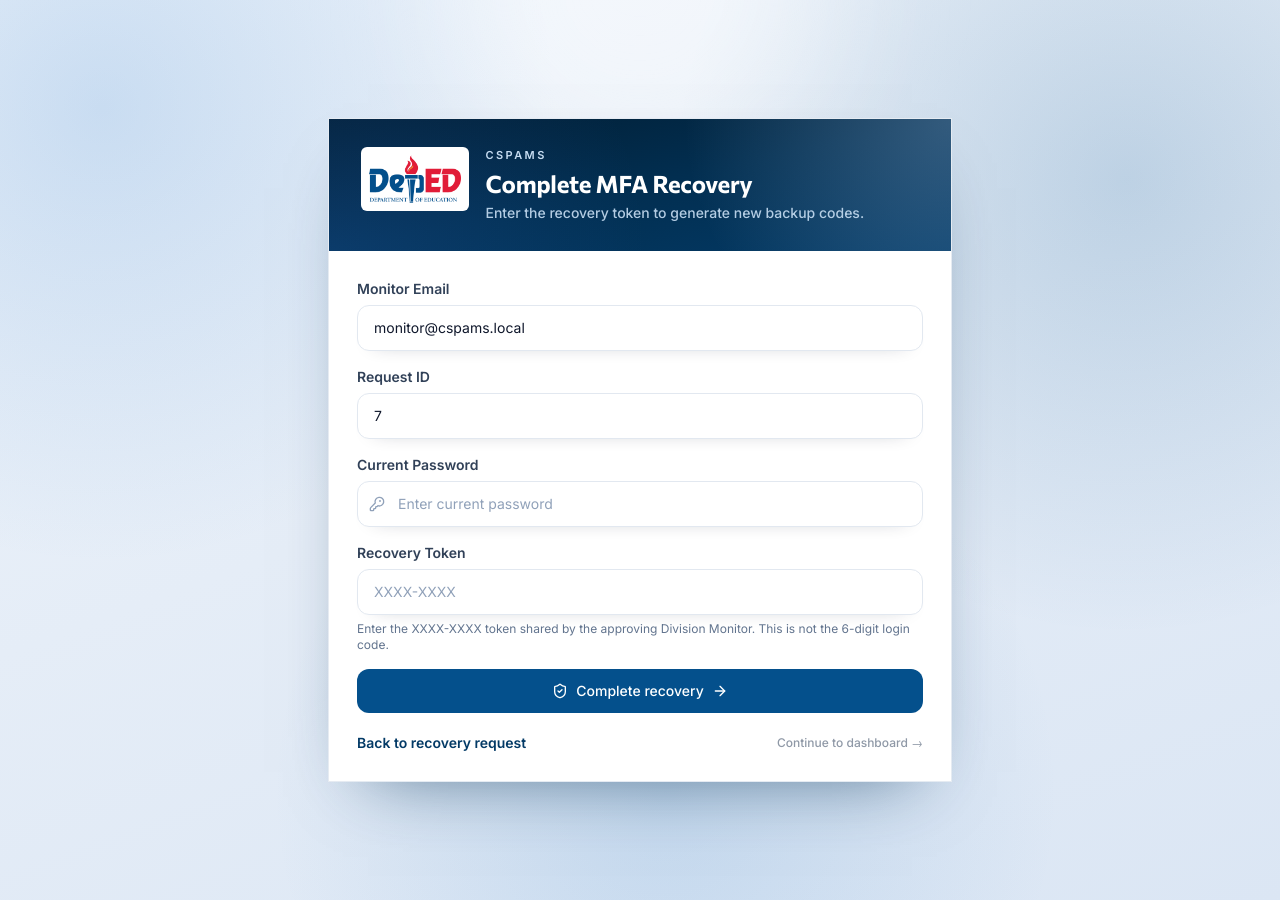
Test case: MfaResetComplete › rejects a six-digit login MFA code as a recovery token
Type "Demo@123456" into the password field labelled "Current Password" at (640, 504), box [357, 480, 923, 526]
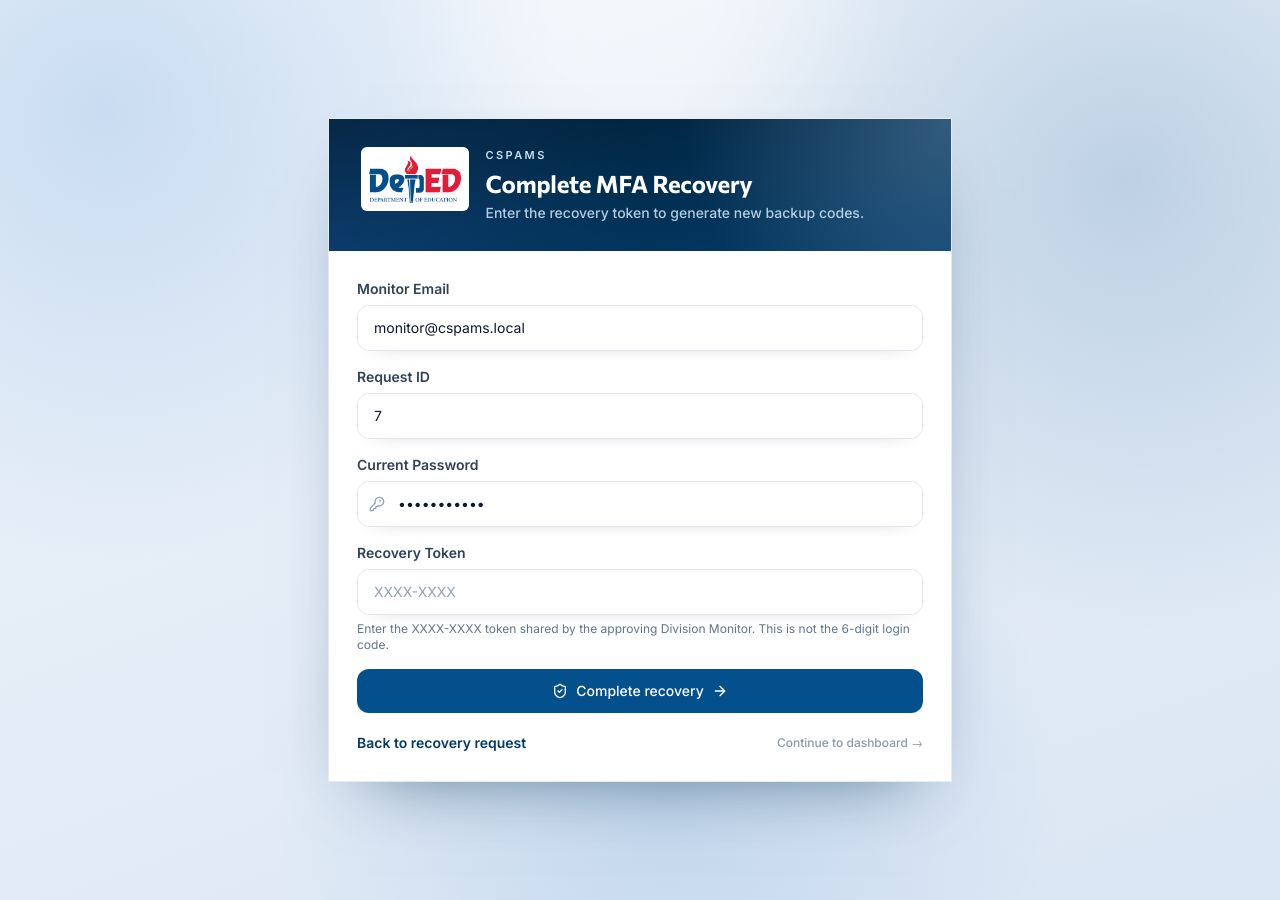
Type "123456" into the field labelled "Recovery Token" at (640, 592), box [357, 568, 923, 614]
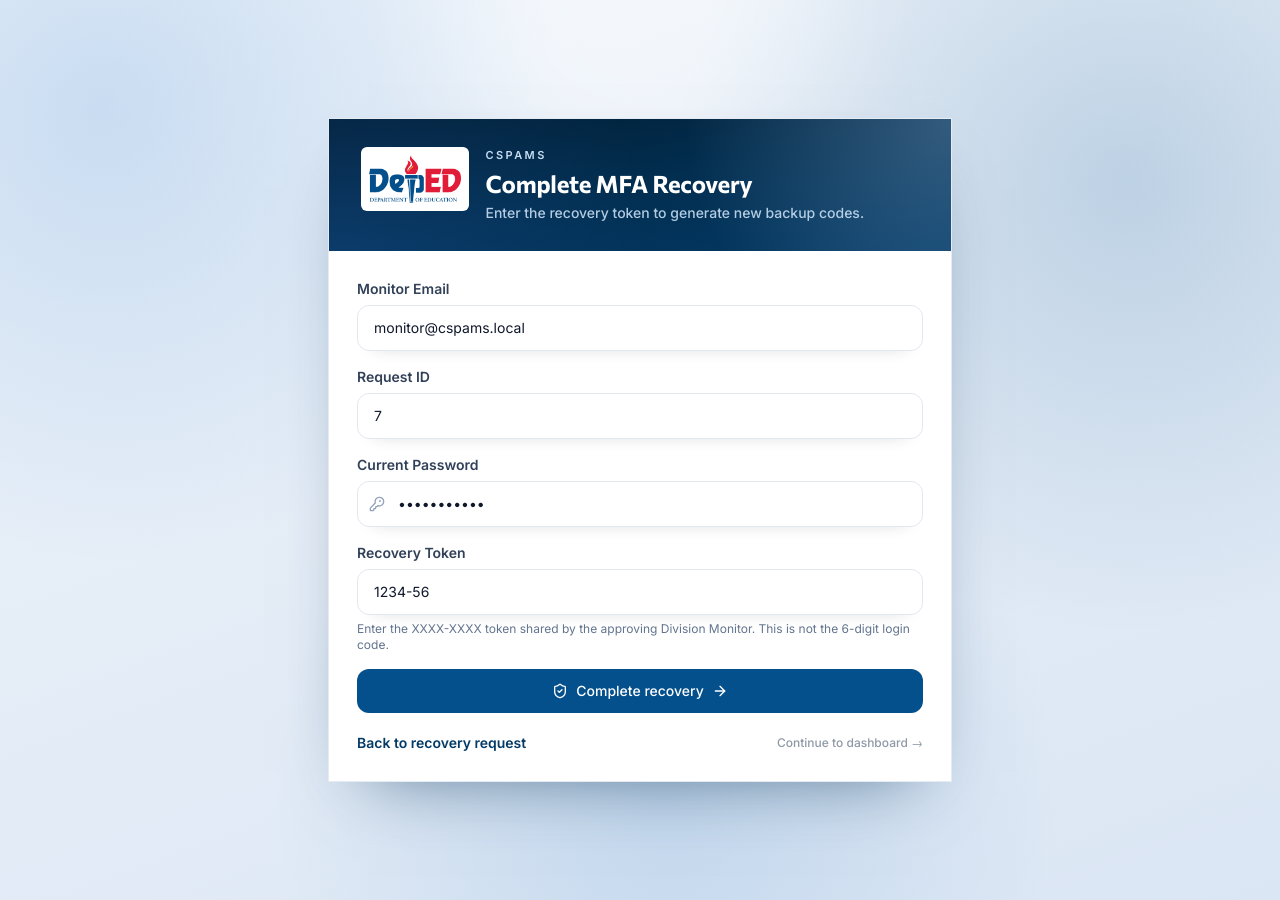
Submit the form named "complete recovery", box [357, 278, 923, 712]
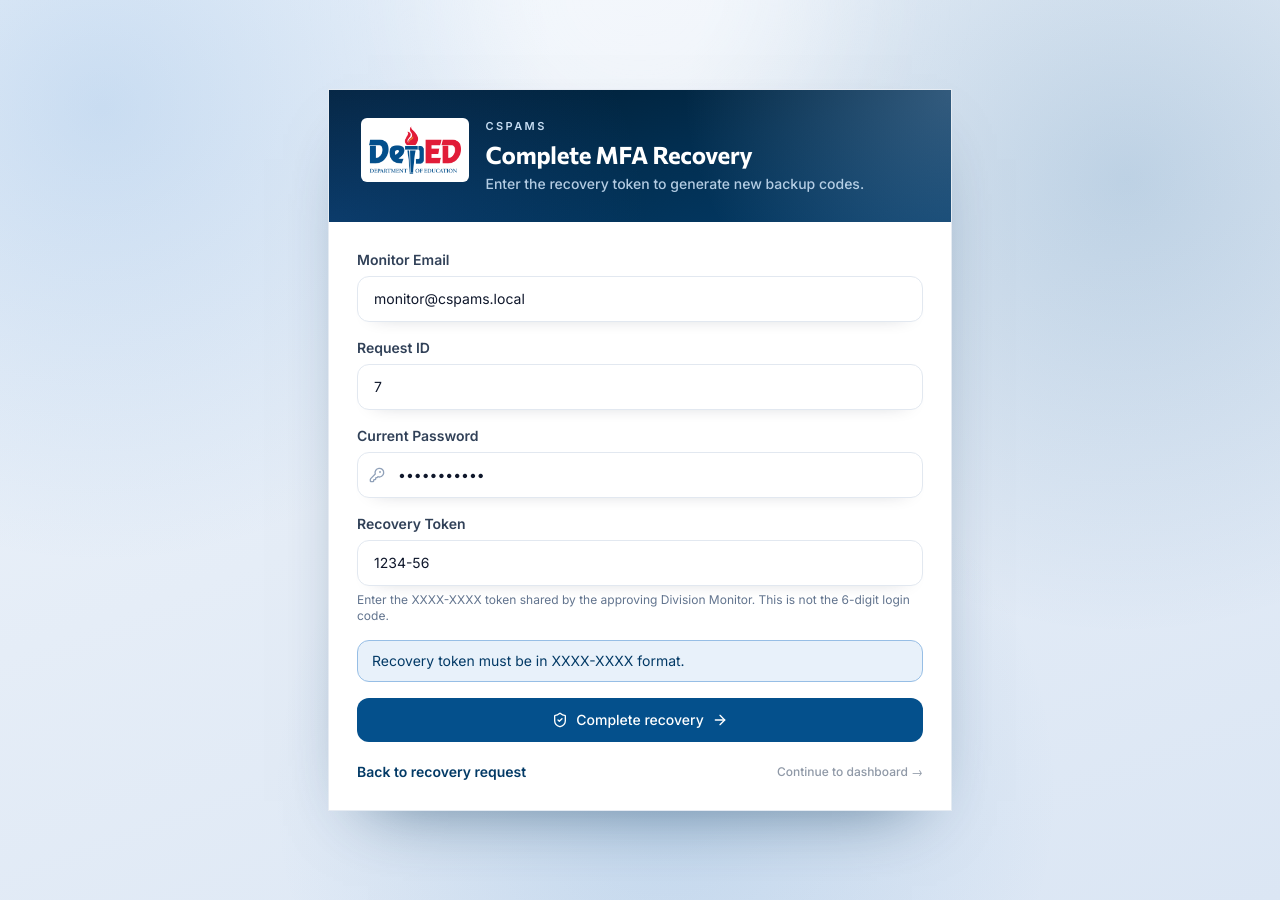
Result: the text "Recovery token must be in XXXX-XXXX format." is shown at [357, 640, 923, 682]
